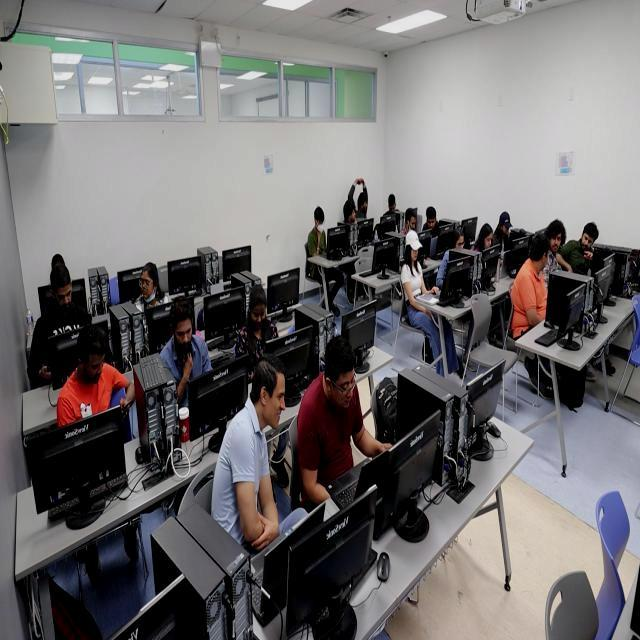Looking away: (256, 372, 288, 432), (329, 360, 359, 412), (79, 346, 106, 386), (173, 313, 194, 353), (54, 275, 74, 313), (246, 300, 268, 333), (139, 264, 157, 300), (580, 229, 594, 252), (538, 244, 550, 270), (454, 232, 465, 258), (550, 230, 562, 253), (482, 229, 494, 251), (314, 215, 326, 234), (410, 243, 420, 264), (406, 215, 416, 234), (426, 214, 436, 232), (500, 218, 510, 236), (346, 207, 356, 224), (360, 197, 368, 214), (388, 200, 397, 214)
